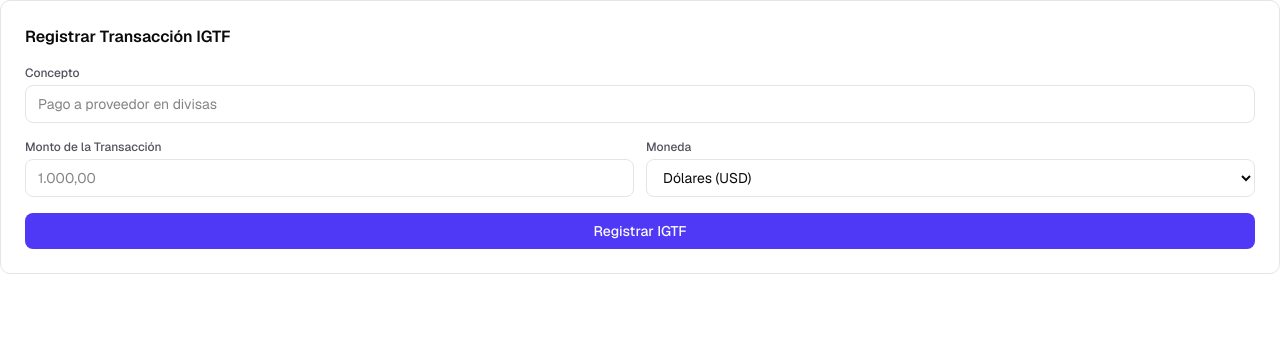
IGTFForm ÔÇö preview condicional › NO muestra preview para USD sin CE (A5)
This screenshot has width=1280, height=351.
Type "1000" into the field with placeholder "1.000,00" at (330, 178), box [25, 159, 634, 197]
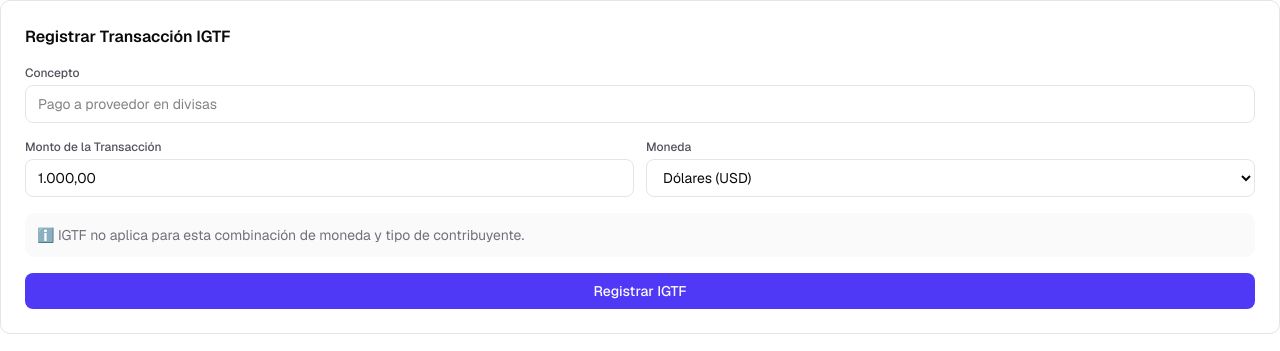
Check: the text "IGTF no aplica" is shown, box [37, 226, 524, 244]
